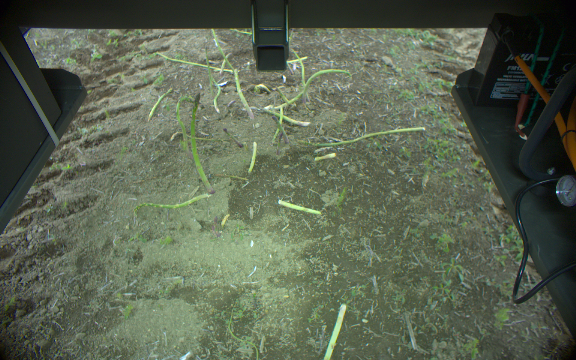aspa: (187, 92, 214, 194), (301, 67, 351, 102), (322, 303, 349, 360), (231, 66, 254, 123), (208, 29, 233, 69), (176, 95, 190, 152), (270, 116, 290, 145), (200, 44, 213, 87), (245, 140, 260, 177), (221, 127, 245, 149), (272, 86, 295, 108)
